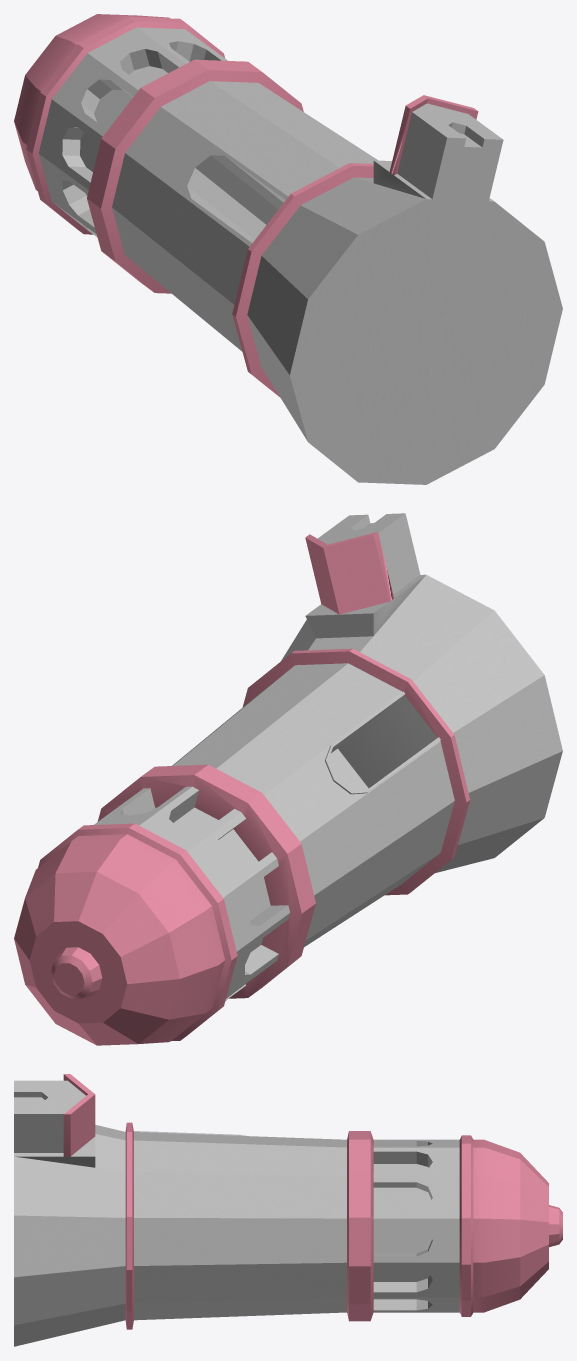
Rendered from pink_symbol_pinkhouse.FBX.
3 renders of one model, top to bottom at view 1: azimuth 30°, elevation 25°; view 2: azimuth 150°, elevation 25°; view 3: azimuth 270°, elevation 25°, orthographic. The views are drawn at different scales.
Visible parts, largest first — view 1: building_1; view 2: building_1; view 3: building_1.
Part boxes in pixels (box(x1,y1,x2,y2)): building_1: box(14, 14, 562, 484); building_1: box(14, 513, 562, 1045); building_1: box(14, 1074, 562, 1346).
Size of the model in its own units: 183 by 223 by 415.
